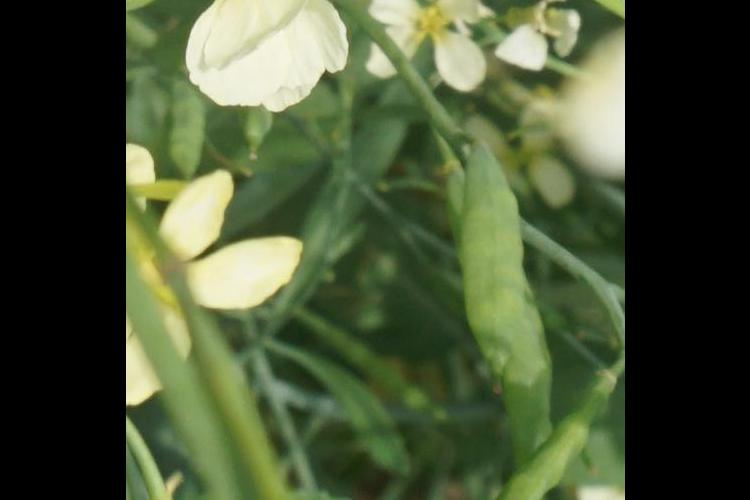pod: (461, 129, 547, 387), (443, 387, 599, 500)
white: (130, 157, 309, 404), (183, 1, 352, 122), (359, 1, 489, 121), (476, 1, 576, 101)
